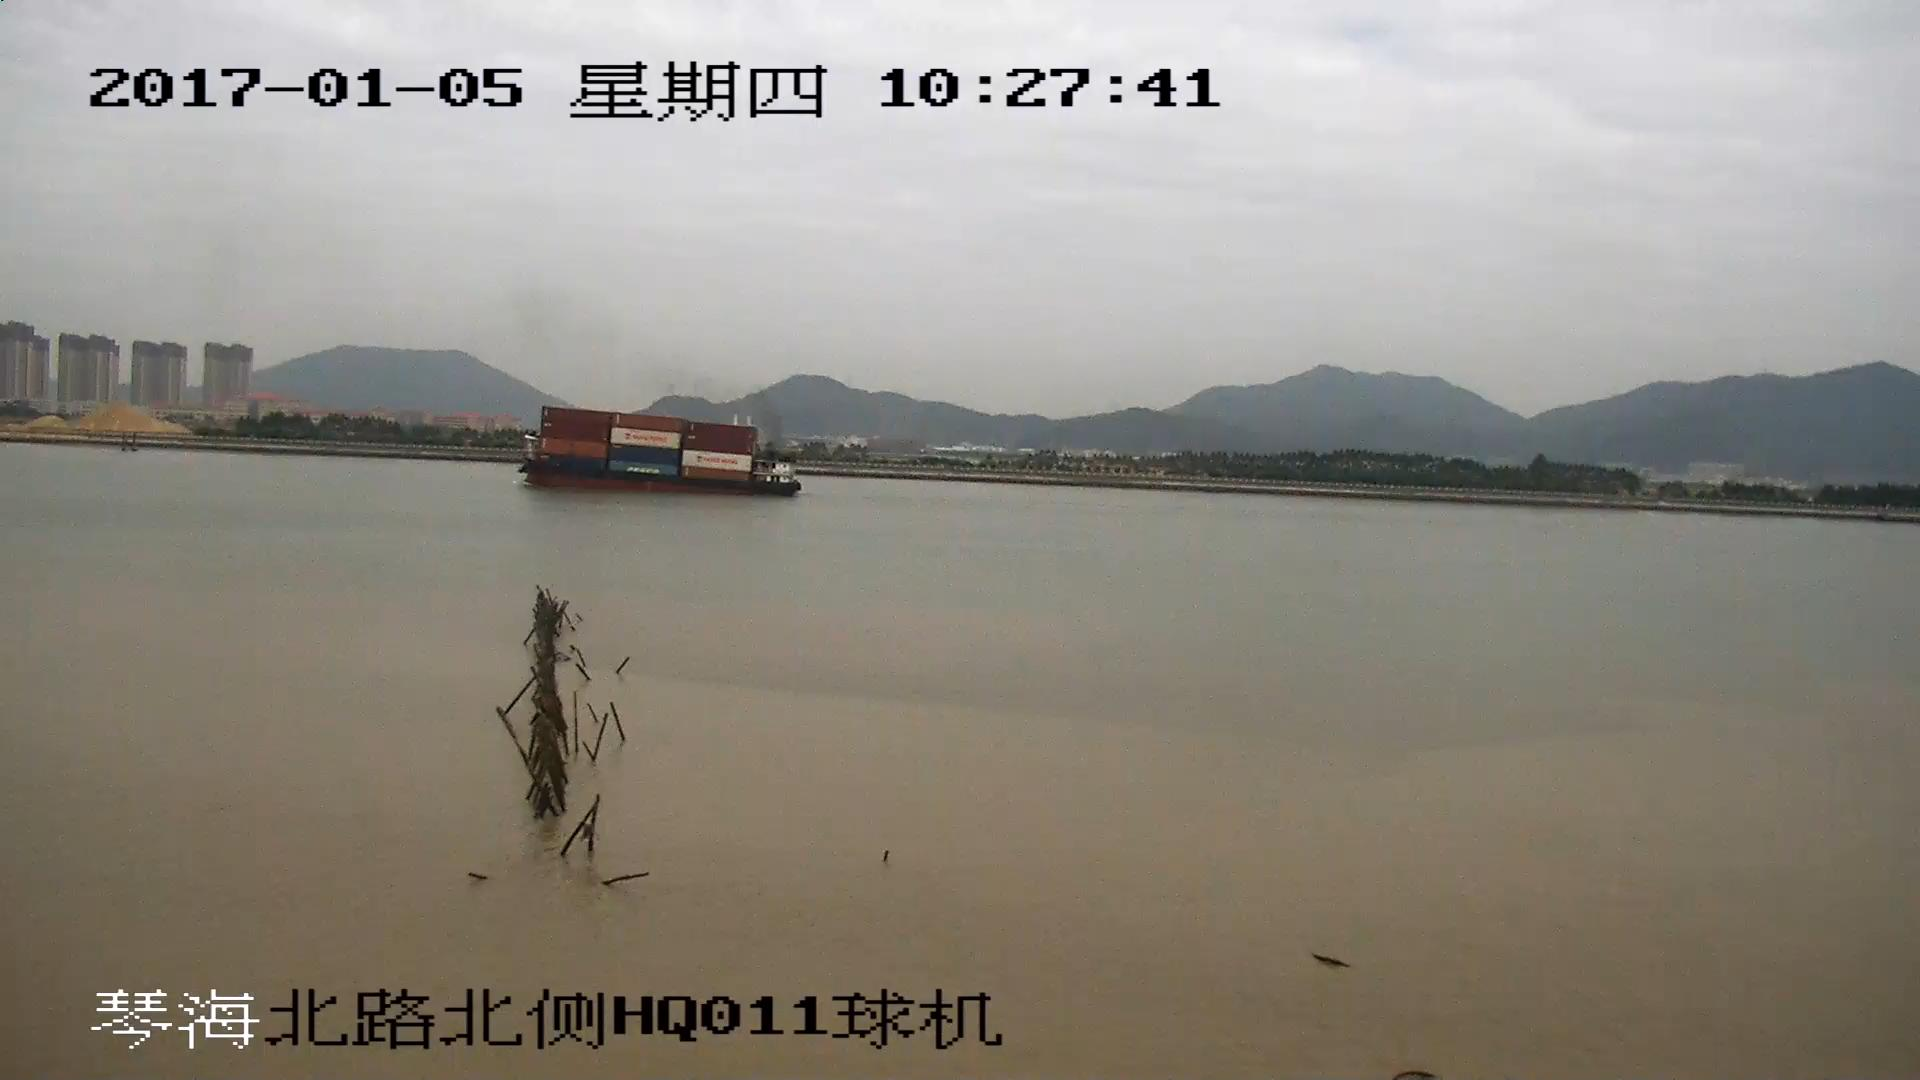container ship: (519, 408, 799, 498)
